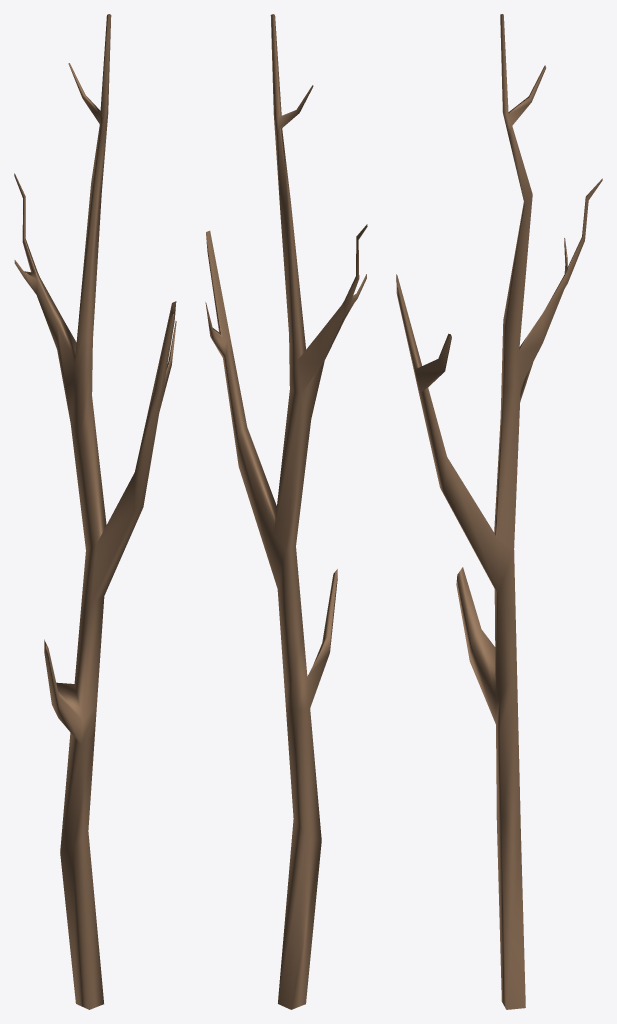
File: Tree_01.fbx
3 views of the same model, side by side, from view 1: azimuth 30°, elevation 25°; view 2: azimuth 210°, elevation 25°; view 3: azimuth 270°, elevation 25° (orthographic).
Visible parts, largest first — view 1: Rock1_LOW:pCube2; view 2: Rock1_LOW:pCube2; view 3: Rock1_LOW:pCube2.
Boxes of the visible parts, <box> form: Rock1_LOW:pCube2: <box>14,14,176,1009</box>; Rock1_LOW:pCube2: <box>205,14,367,1009</box>; Rock1_LOW:pCube2: <box>396,14,602,1009</box>.
Size of the model in its own units: 24.29 by 182 by 34.13.
